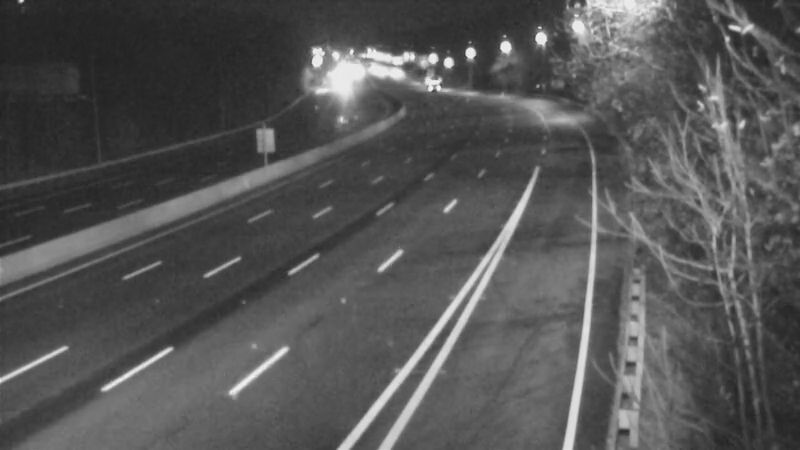vehicle: (403, 57, 453, 107)
